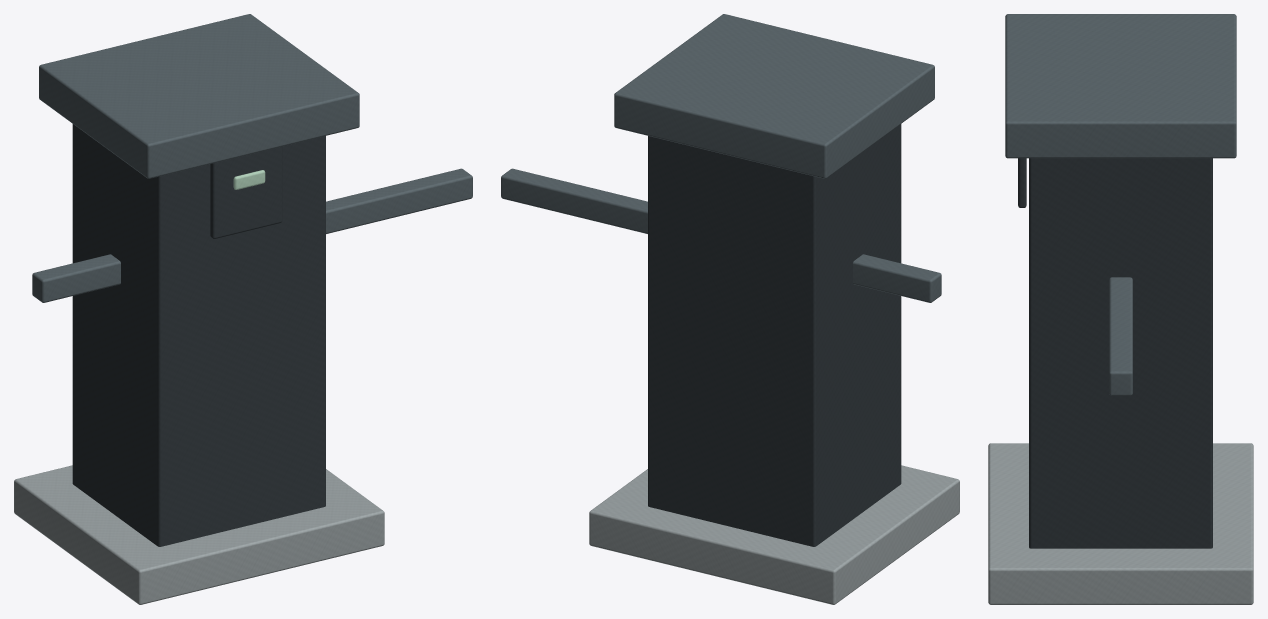
The model's file is SecurityTurnstile.glb.
3 views of the same model, side by side, from view 1: azimuth 30°, elevation 25°; view 2: azimuth 150°, elevation 25°; view 3: azimuth 270°, elevation 25° (orthographic). The views are drawn at different scales.
Parts seen in each view (by area): view 1: SecurityTurnstile_Mesh; view 2: SecurityTurnstile_Mesh; view 3: SecurityTurnstile_Mesh.
Part boxes in pixels (x1=…): SecurityTurnstile_Mesh: x1=14, y1=14, x2=472, y2=604; SecurityTurnstile_Mesh: x1=501, y1=14, x2=959, y2=604; SecurityTurnstile_Mesh: x1=988, y1=14, x2=1253, y2=604.
Size of the model in its own units: 1.54 by 1.54 by 0.78.
Materials: 4 (4 with a texture image).
